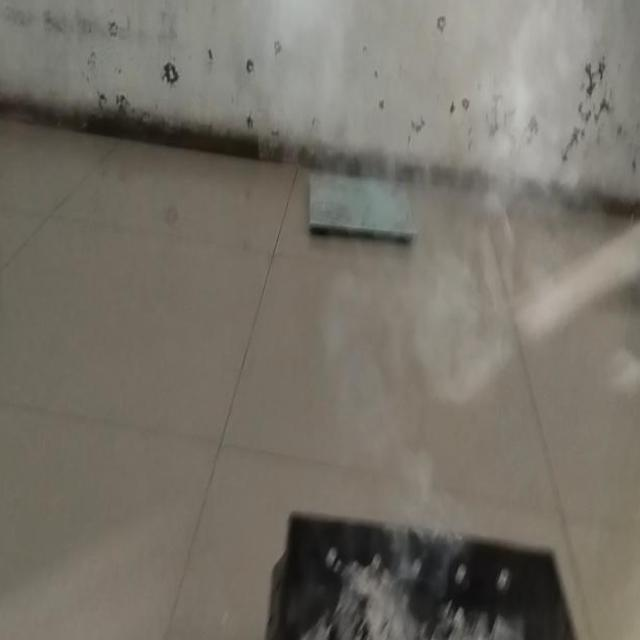fire: (398, 0, 591, 410)
